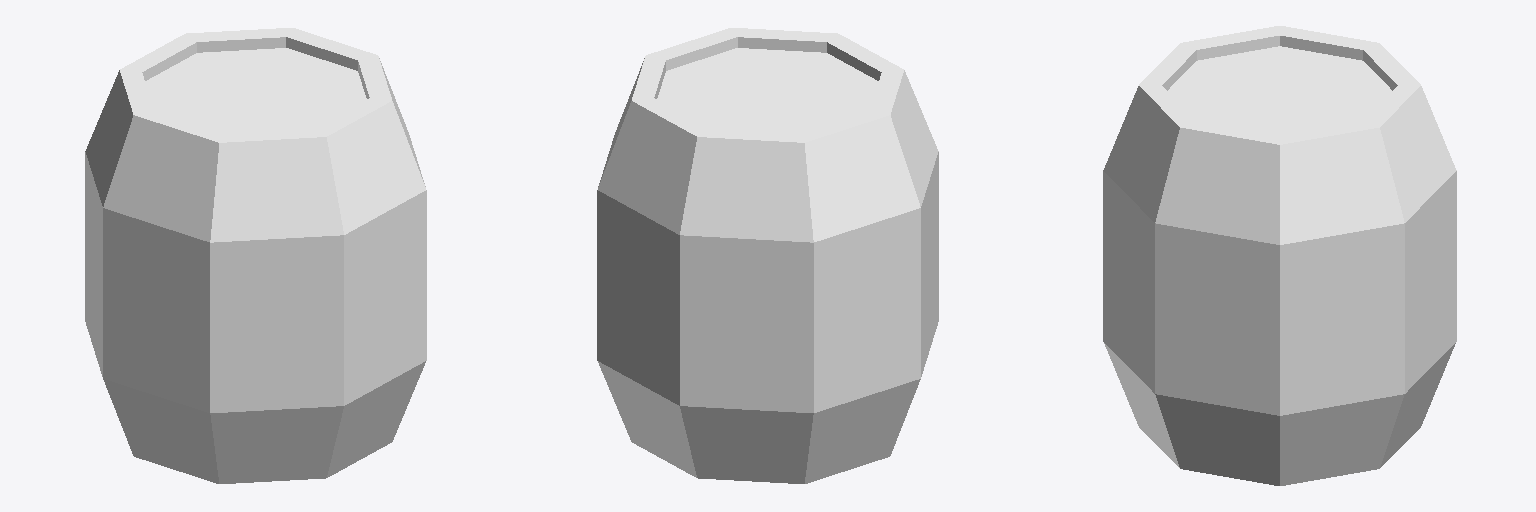
Rendered from barrel_of_wine.obj.
3 views of the same model, side by side, from view 1: azimuth 30°, elevation 25°; view 2: azimuth 150°, elevation 25°; view 3: azimuth 270°, elevation 25° (orthographic).
Parts seen in each view (by area): view 1: cylinder; view 2: cylinder; view 3: cylinder.
Boxes of the visible parts, x1,y1,x2,y2 form: cylinder: [85, 28, 426, 483]; cylinder: [597, 28, 938, 483]; cylinder: [1103, 26, 1456, 485].
Bounding box in the file's own units: 0.9375 × 1 × 0.9375.